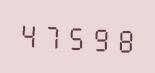eight: (110, 21, 132, 55)
five: (64, 19, 86, 53)
four: (18, 16, 40, 51)
nine: (87, 20, 109, 54)
seven: (41, 18, 63, 52)
